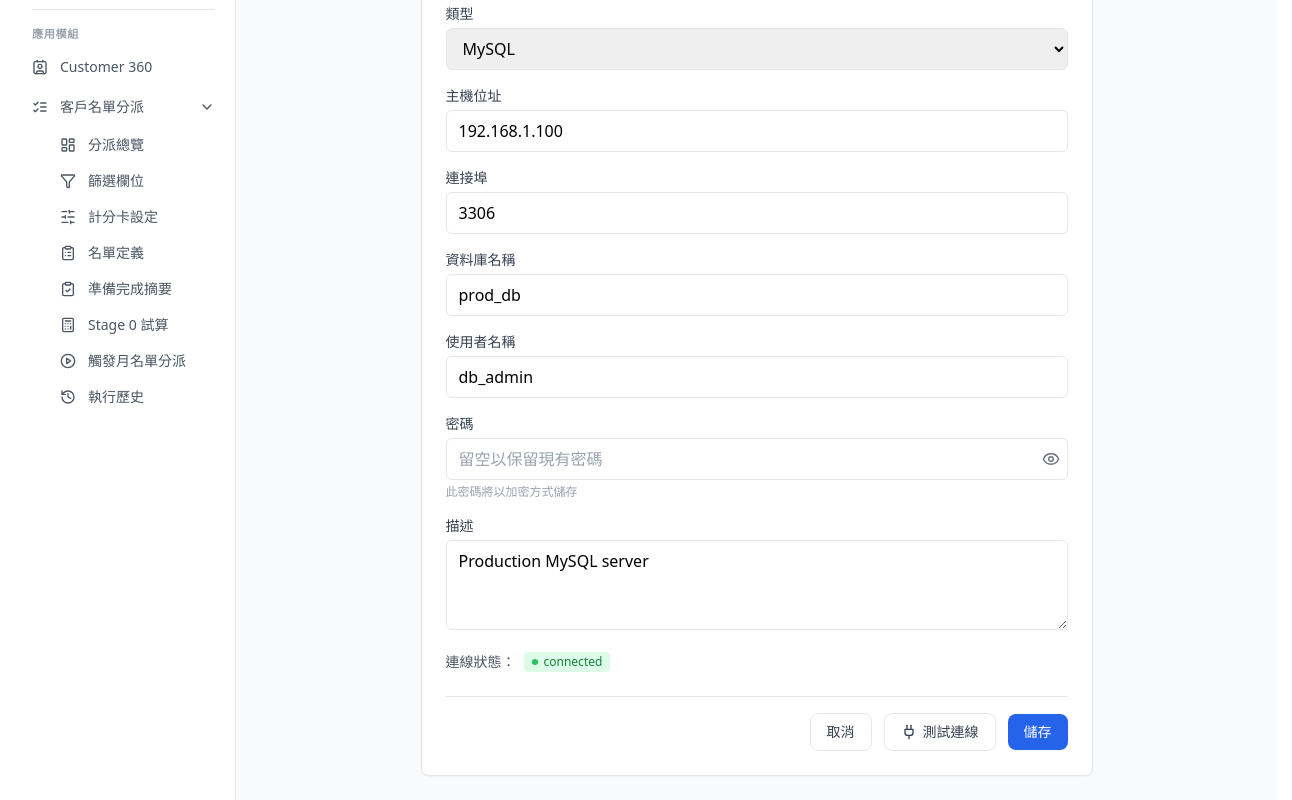
it: EditDatasourcePage › 測試連線 › 點擊測試連線失敗後更新連線狀態為 disconnected
(page scrolled)
Click the button "測試連線" at (940, 732), box [884,713,996,751]
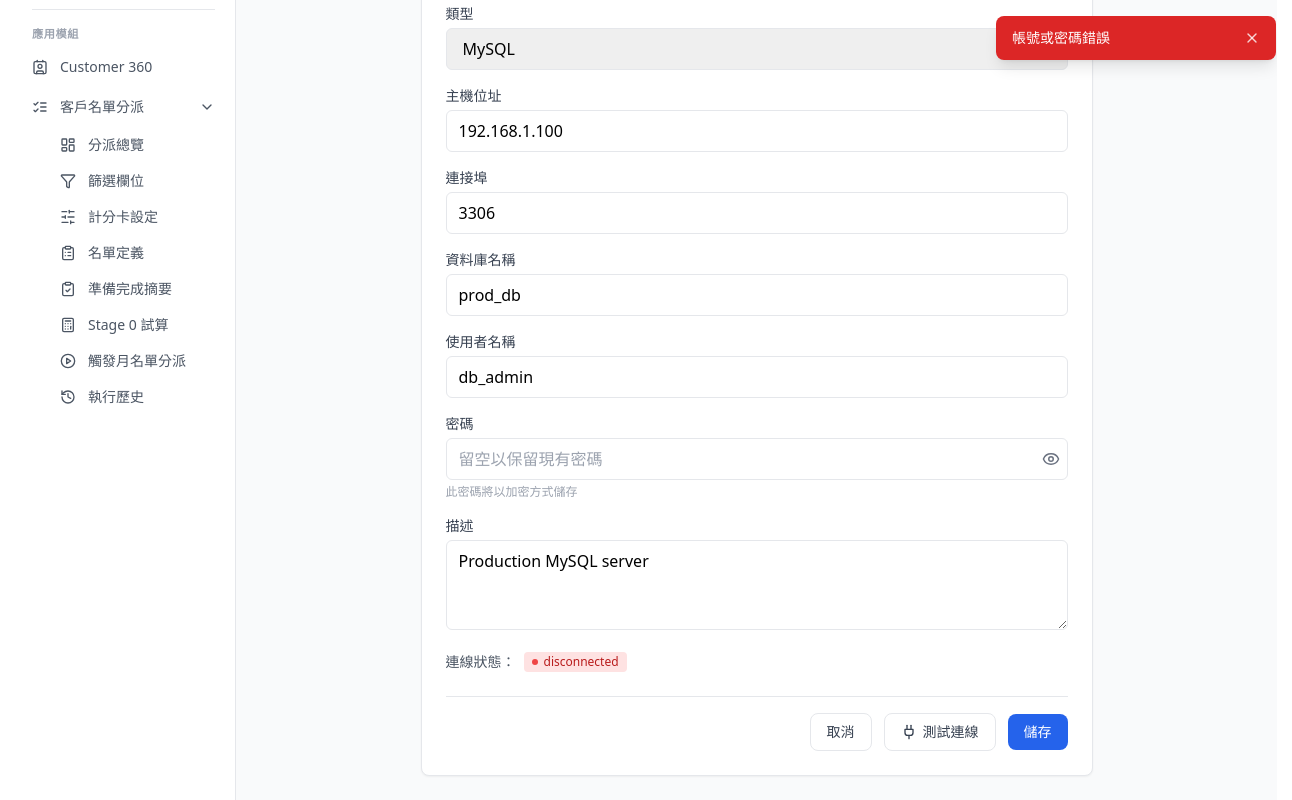
Now the element with test id "connection-status" shows "disconnected", box [544,653,619,670]
